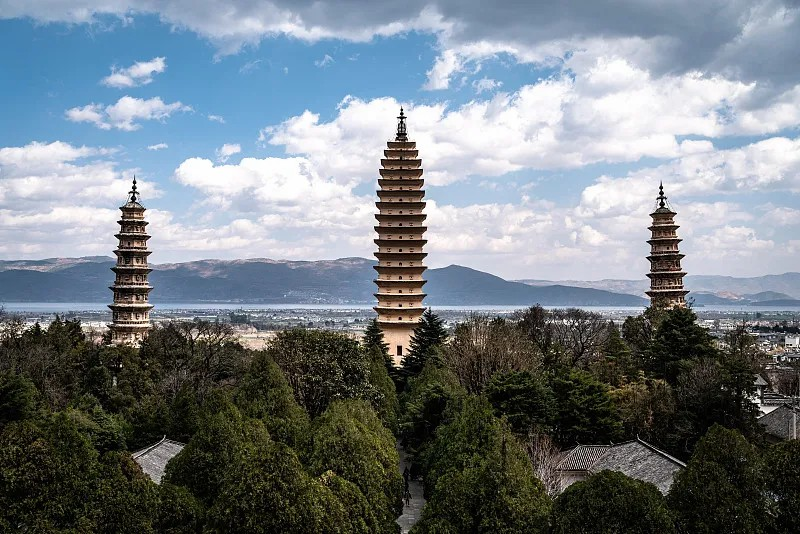ThreePagoda: (373, 107, 428, 365)
